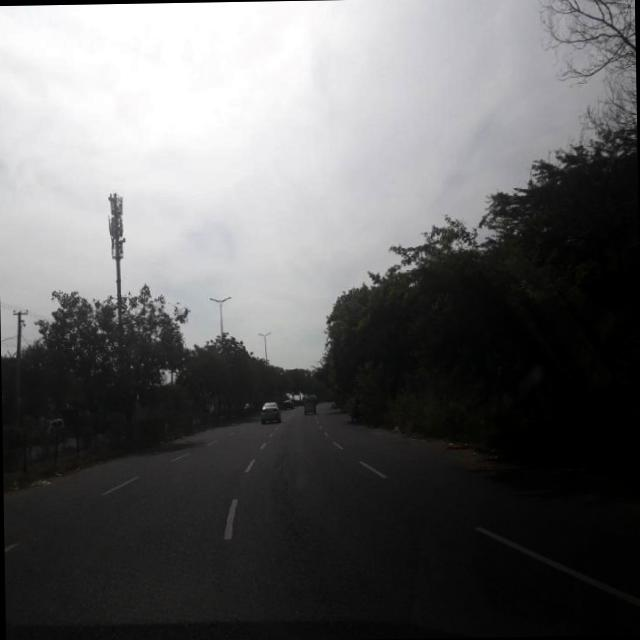crack: (266, 442, 330, 608)
